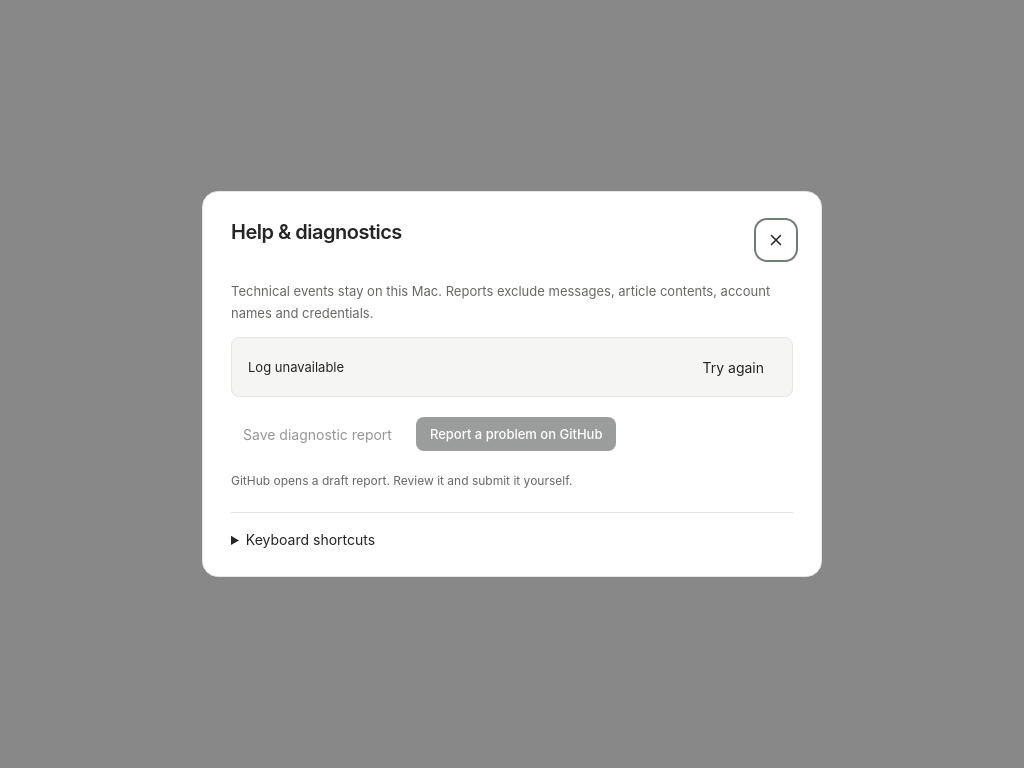
Test case: recovers a failed diagnostic read inside the modal before allowing export
Expected: the message reads "Log unavailable Try again", [231,337,793,397]
Expected: the button "Save diagnostic report" is disabled, [231,417,404,451]
Click the button "Try again" at x=733, y=367, box [690,350,776,384]
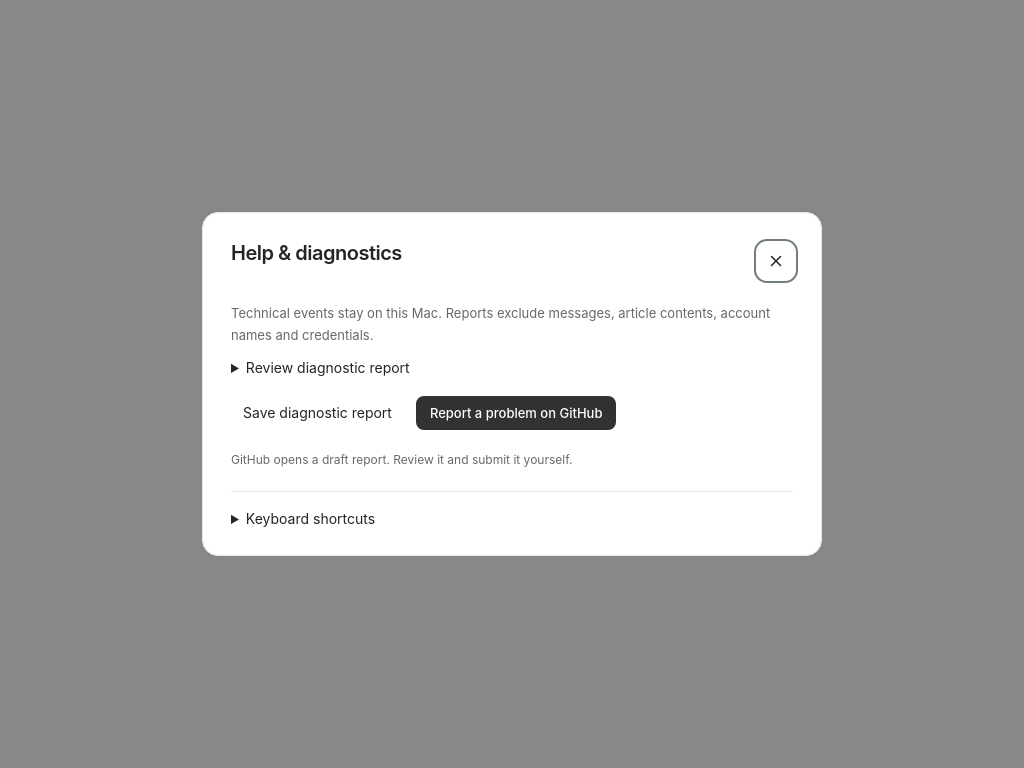
Now the button "Save diagnostic report" is enabled, box [231,396,404,430]
